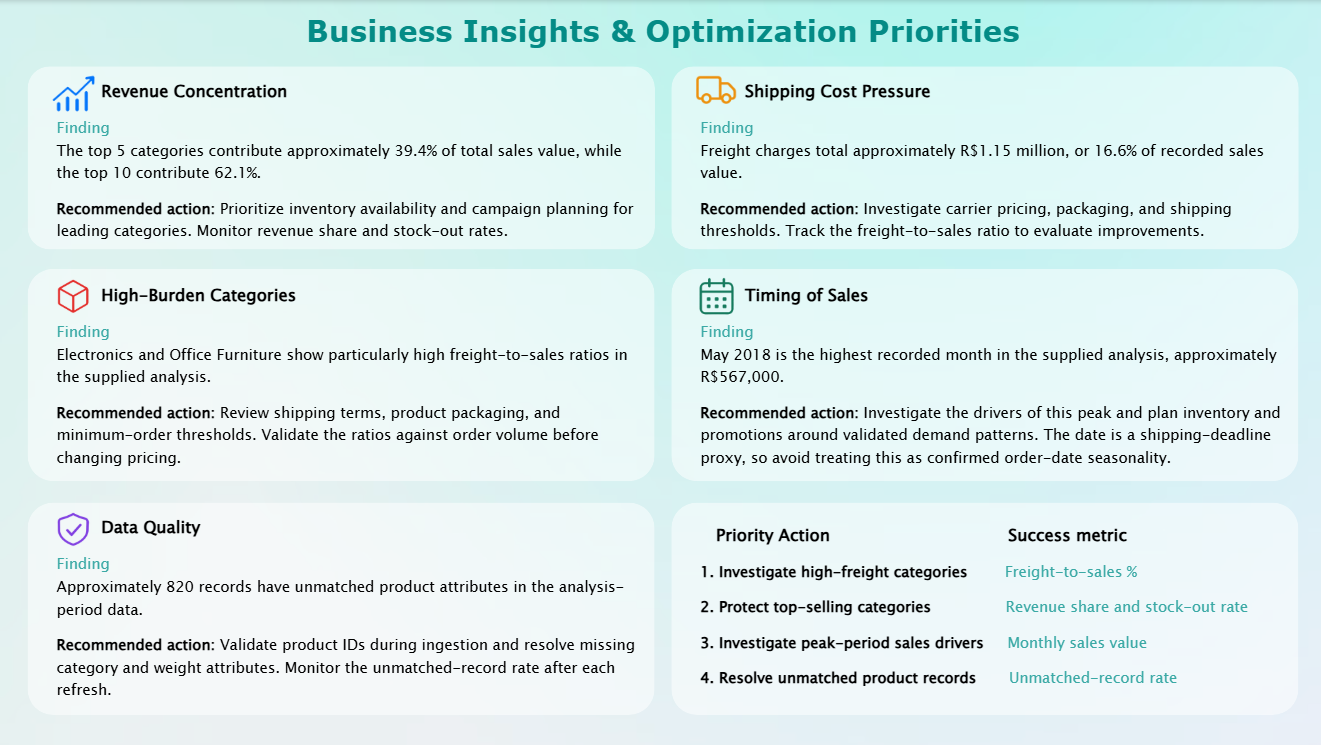

This screenshot's page, from the dashboard's own definition file:
{"tool":"powerbi","page":{"name":"Insights & Actions","canvas":[1920,1080],"ordinal":3},"visuals":[{"type":"textbox","box":[0,18.1,1920.1,63.3],"z":0},{"type":"shape","box":[40.2,389.5,907.9,307.7],"z":1000},{"type":"shape","box":[971.6,96,908.4,265.3],"z":2000},{"type":"textbox","box":[972,96,886,265],"z":3000},{"type":"group","id":"g1","title":"Group 1","box":[40,96,908.6,265.3],"z":4000},{"type":"textbox","box":[40,390,886,307],"z":5000},{"type":"shape","box":[40.2,96,908.4,265.3],"z":6000,"group":"g1"},{"type":"shape","box":[972.1,389.5,907.9,307.7],"z":6000},{"type":"textbox","box":[40,96,886,265],"z":7000,"group":"g1"},{"type":"textbox","box":[972,390,908,307],"z":7000},{"type":"shape","box":[40,727.7,907.9,307.7],"z":8000},{"type":"textbox","box":[40,728,909,306],"z":9000},{"type":"shape","box":[971.8,728,907.9,307.7],"z":10000},{"type":"textbox","box":[971.8,738.9,908.2,297.1],"z":11000},{"type":"image","box":[68.8,81.4,76,108.6],"z":12000},{"type":"image","box":[1000.7,70.6,72.4,119.4],"z":13000},{"type":"image","box":[76,376.4,59.7,105],"z":14000},{"type":"image","box":[1003.8,376.2,66.2,104.6],"z":15000},{"type":"image","box":[76,714.8,59.7,103.2],"z":16000}]}

Visuals, with their boxes in screenshot pixels (x1, y1, x2, y2), scaled from the page's 1920x1080 canvas onto the 1321x745 screenshot:
textbox: bbox(0, 12, 1320, 56)
shape: bbox(28, 269, 652, 481)
shape: bbox(668, 66, 1293, 249)
textbox: bbox(669, 66, 1278, 249)
"Group 1" group: bbox(28, 66, 653, 249)
textbox: bbox(28, 269, 637, 481)
shape: bbox(28, 66, 653, 249)
shape: bbox(669, 269, 1293, 481)
textbox: bbox(28, 66, 637, 249)
textbox: bbox(669, 269, 1293, 481)
shape: bbox(28, 502, 652, 714)
textbox: bbox(28, 502, 653, 713)
shape: bbox(669, 502, 1293, 714)
textbox: bbox(669, 510, 1293, 715)
image: bbox(47, 56, 100, 131)
image: bbox(689, 49, 738, 131)
image: bbox(52, 260, 93, 332)
image: bbox(691, 260, 736, 332)
image: bbox(52, 493, 93, 564)
